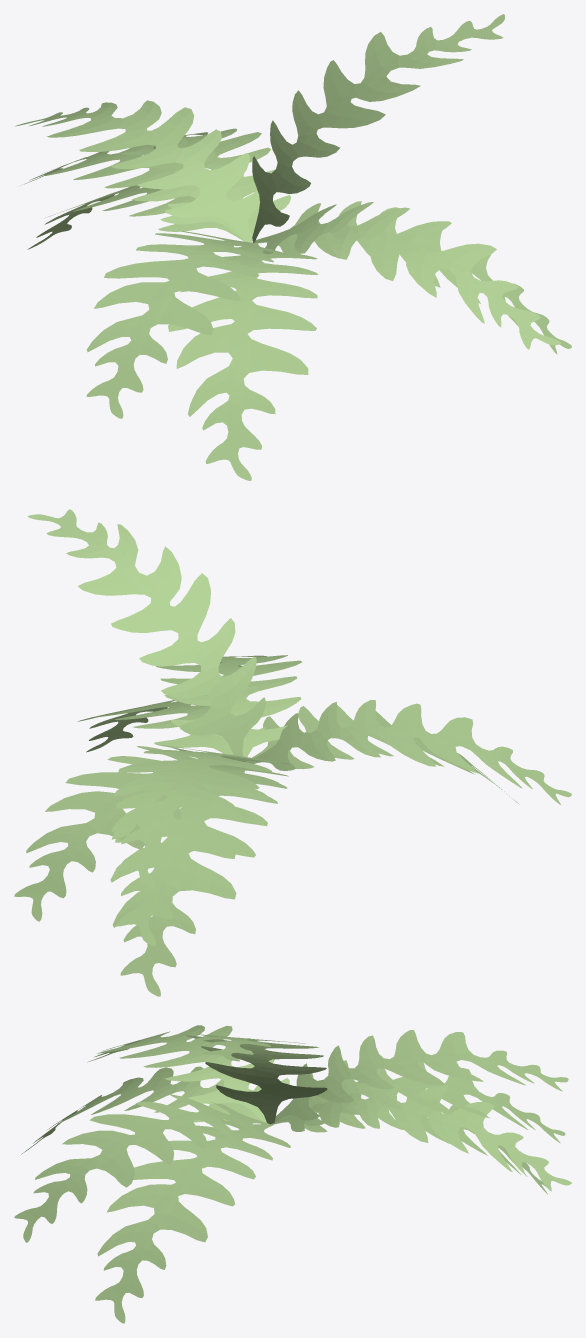
File: Selenicereus Chrysocardium.fbx
3 renders of one model, top to bottom at view 1: azimuth 30°, elevation 25°; view 2: azimuth 150°, elevation 25°; view 3: azimuth 270°, elevation 25°, orthographic. The views are drawn at different scales.
Visible parts, largest first — view 1: Selenicereus Chrysocardium|Selenicereus Chrysocardium Leaf|D (×9); view 2: Selenicereus Chrysocardium|Selenicereus Chrysocardium Leaf|D (×9); view 3: Selenicereus Chrysocardium|Selenicereus Chrysocardium Leaf|D (×9).
Part boxes in pixels (left/top/right/bottom): Selenicereus Chrysocardium|Selenicereus Chrysocardium Leaf|D (×9): left=15, top=14, right=571, bottom=480; Selenicereus Chrysocardium|Selenicereus Chrysocardium Leaf|D (×9): left=14, top=509, right=571, bottom=996; Selenicereus Chrysocardium|Selenicereus Chrysocardium Leaf|D (×9): left=14, top=1025, right=571, bottom=1323.
Bounding box in the file's own units: 727 × 412 × 800.
